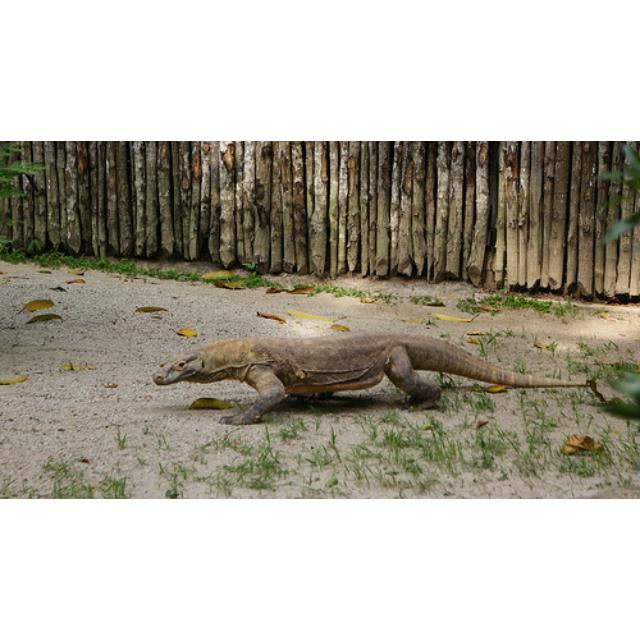KomodoDragon: (148, 336, 593, 425)
